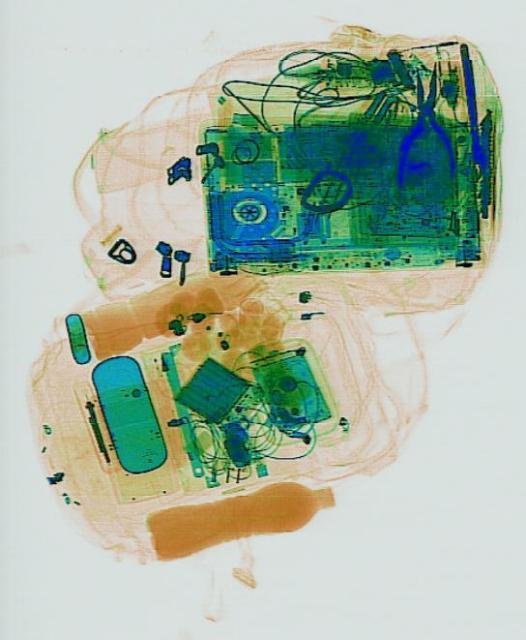Pliers: (392, 60, 453, 186)
